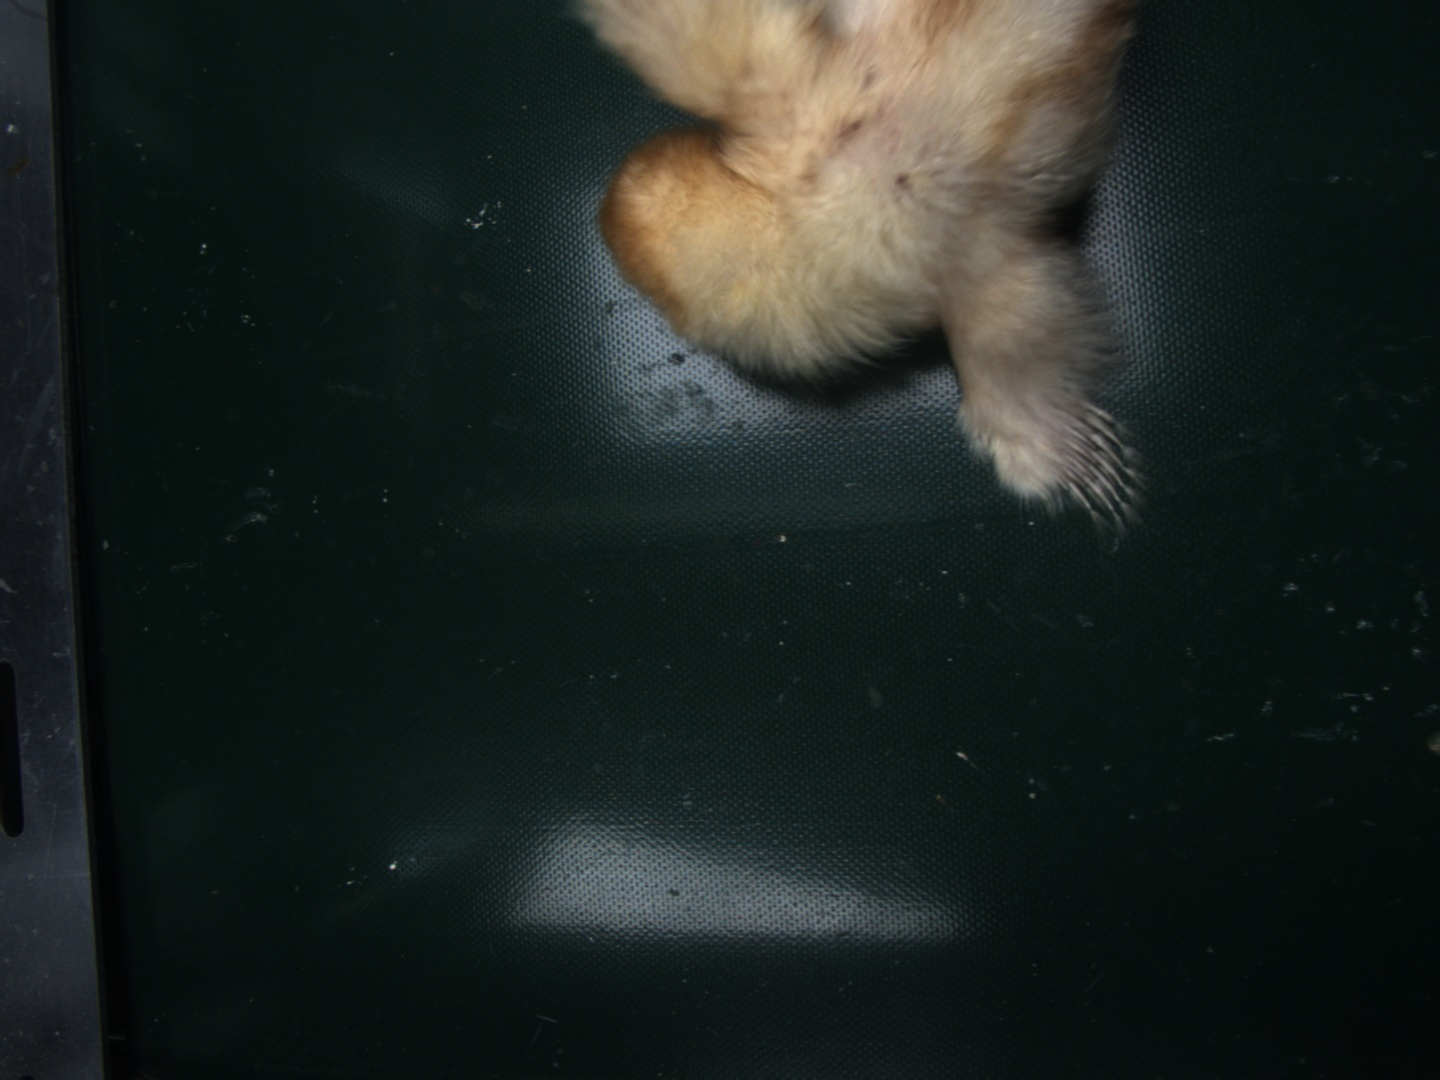female: (1049, 400, 1123, 511)
